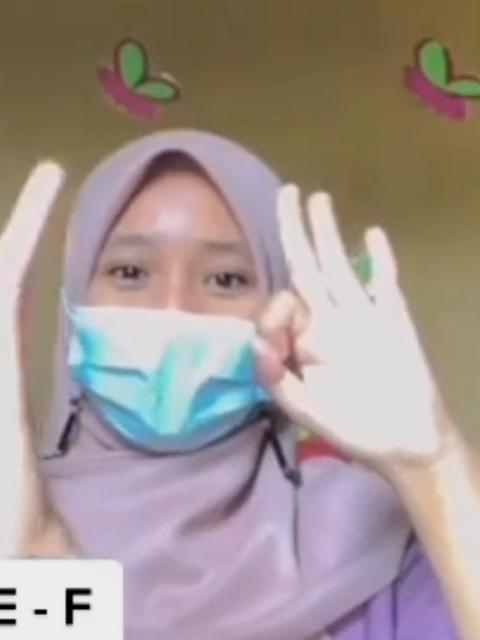F: (252, 182, 454, 464)
